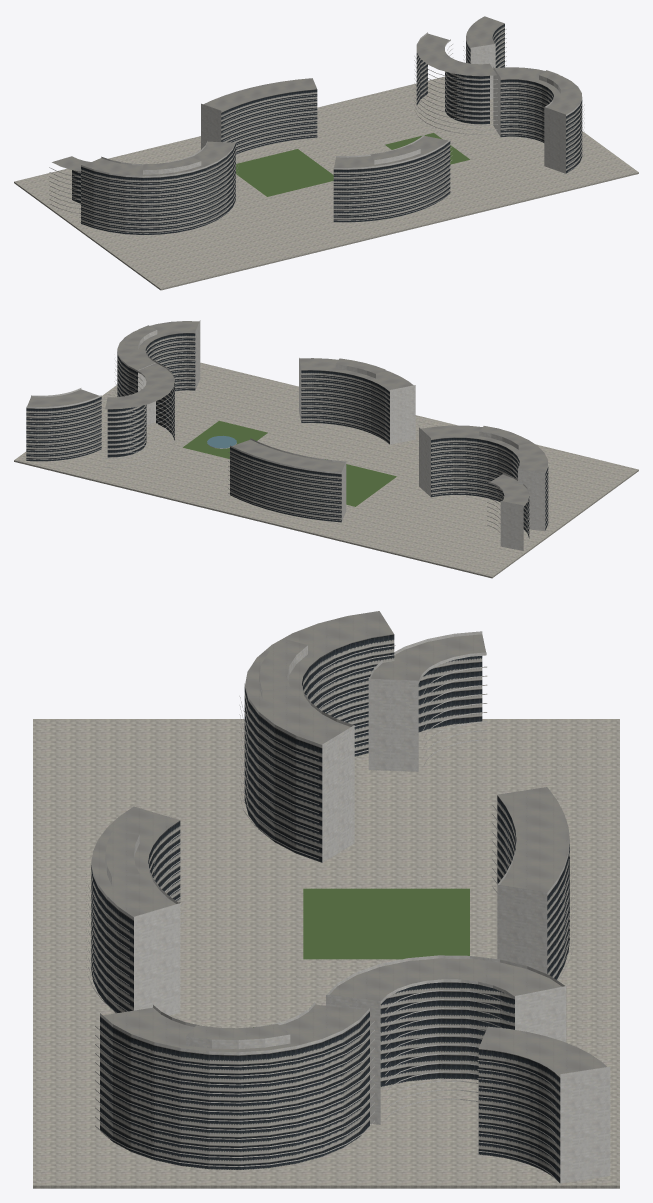
Rendered from watergate.glb.
The picture shows the model from 3 angles, top to bottom: view 1: azimuth 30°, elevation 25°; view 2: azimuth 150°, elevation 25°; view 3: azimuth 270°, elevation 25°; orthographic projection. The views are drawn at different scales.
Visible parts, largest first — view 1: watergate; view 2: watergate; view 3: watergate.
Boxes of the visible parts, bbox=[...] form: watergate: bbox=[14, 16, 638, 290]; watergate: bbox=[14, 320, 638, 578]; watergate: bbox=[33, 611, 619, 1188].
Bounding box in the file's own units: 331 × 41.98 × 176.
5 materials, 5 textured.
